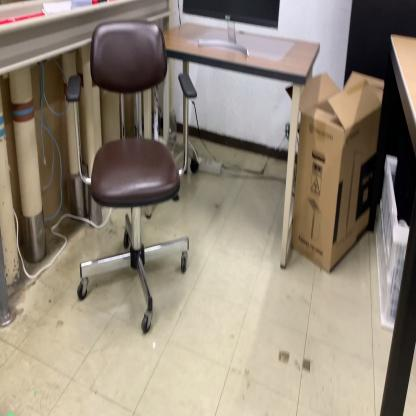chair: (66, 20, 198, 336)
